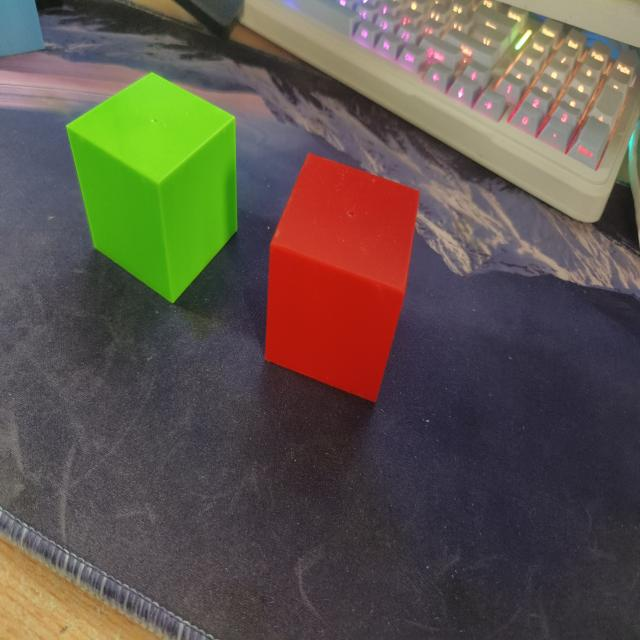green: (63, 61, 248, 313)
red: (256, 144, 430, 414)
